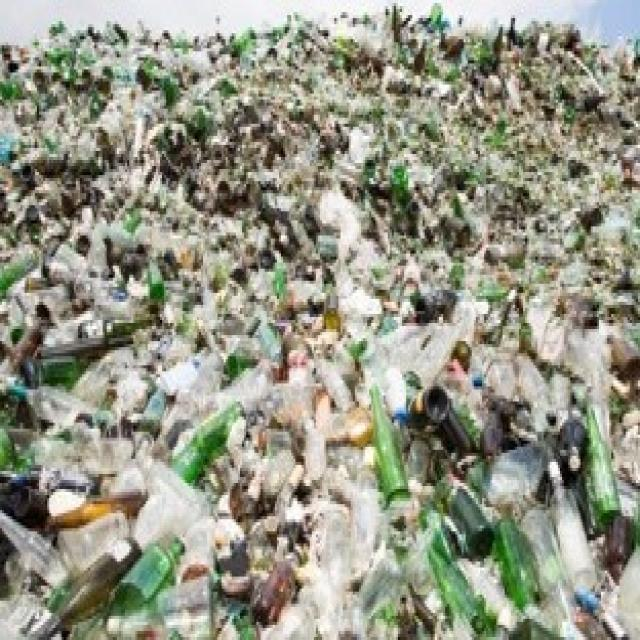electronic: (100, 536, 187, 616), (368, 385, 410, 520)
